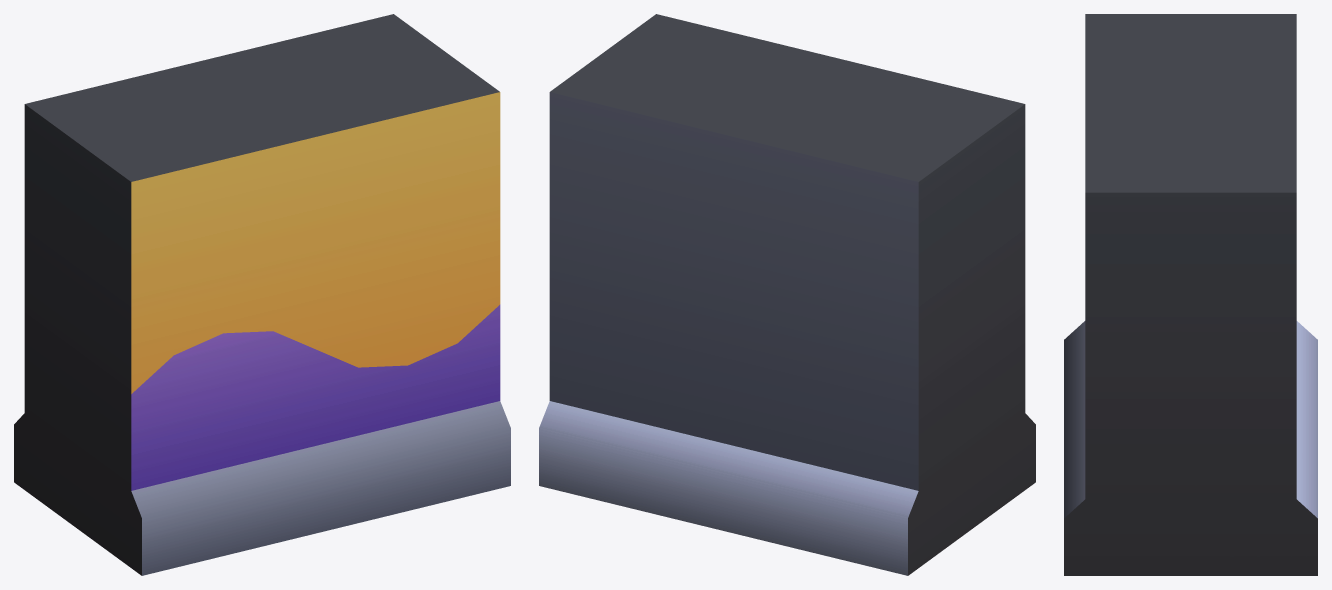
The model's file is wall.glb.
3 views of the same model, side by side, from view 1: azimuth 30°, elevation 25°; view 2: azimuth 150°, elevation 25°; view 3: azimuth 270°, elevation 25° (orthographic).
Parts seen in each view (by area): view 1: wall; view 2: wall; view 3: wall.
Part boxes in pixels (x1,y1,x2,y2): wall: (14, 14, 510, 575); wall: (539, 14, 1035, 575); wall: (1064, 14, 1317, 575).
Size of the model in its own units: 1 by 1 by 0.6001.
1 material, 1 textured.
